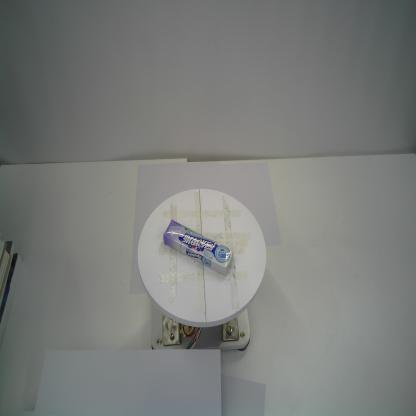Candy: (162, 218, 234, 275)
